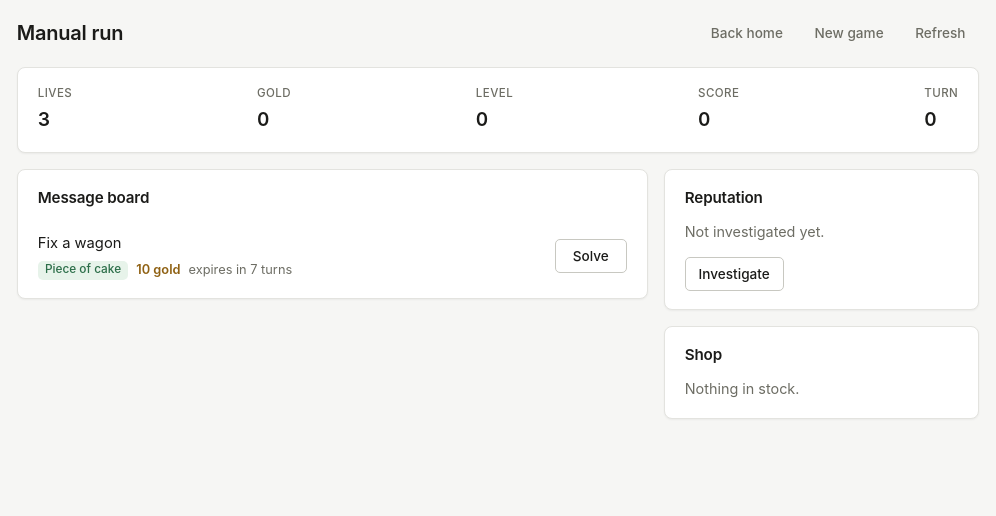
Test case: ManualGameView › shows game over and disables Refresh once the last life is lost
expect the button "Refresh" is enabled: met, box [901,16,979,50]
Click the button with class "task__action": (591, 256) [555,239,627,273]
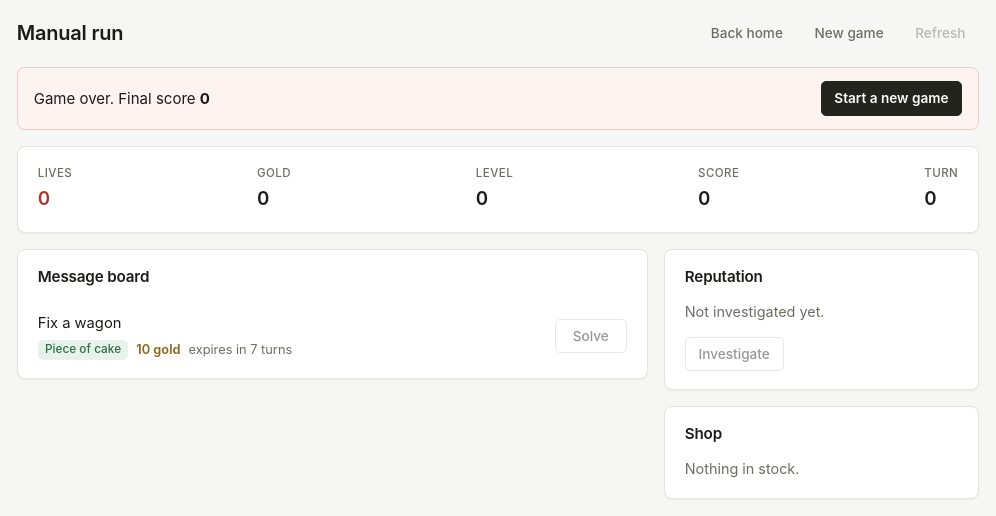
expect the message with class "game-over" shows "Game over. Final score 0": met, box [17,66,979,130]
expect the button "Refresh" is disabled: met, box [901,16,979,50]
